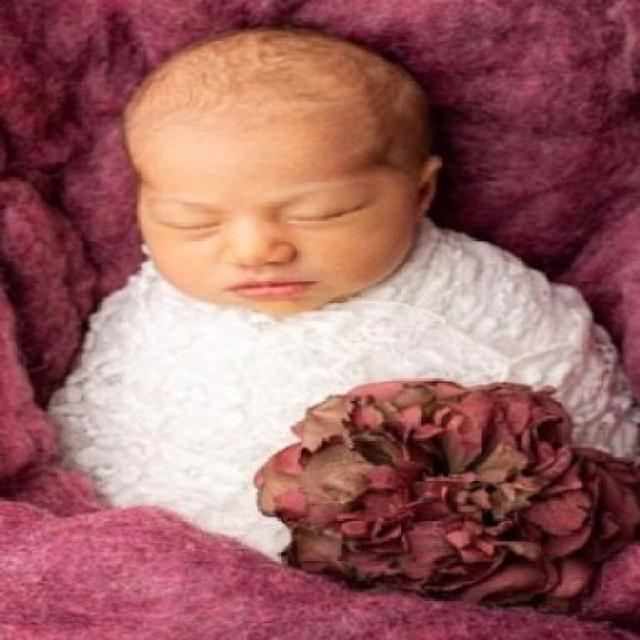baby: (44, 23, 620, 560)
